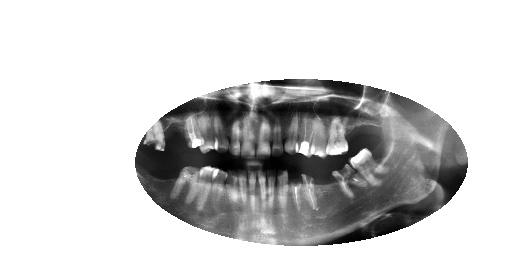i10decay: (244, 164, 258, 220)
i11healthy: (235, 164, 251, 219)
i12healthy: (220, 163, 240, 222)
i13healthy: (208, 164, 230, 219)
i14healthy: (186, 157, 221, 217)
i15healthy: (168, 159, 203, 209)
i16loss: (150, 155, 184, 198)
i1healthy: (348, 144, 394, 191)
i2healthy: (325, 158, 371, 200)
i3loss: (309, 168, 344, 204)
i5chipped: (298, 166, 320, 212)
i6chipped: (284, 168, 309, 215)
i7decay: (274, 163, 291, 219)
i8decay: (262, 163, 279, 218)
i9decay: (254, 164, 268, 218)
u10healthy: (226, 111, 243, 160)
u11healthy: (209, 104, 234, 155)
u12healthy: (192, 108, 219, 155)
u13healthy: (182, 110, 204, 155)
u14lossl: (161, 114, 191, 155)
u15healthy: (144, 119, 168, 158)
u3healthy: (323, 114, 352, 159)
u4decay: (306, 112, 328, 161)
u5decay: (293, 109, 317, 159)
u6decay: (281, 107, 303, 156)
u7decay: (268, 112, 286, 159)
u8decay: (254, 110, 274, 161)
u9decay: (237, 108, 259, 162)
